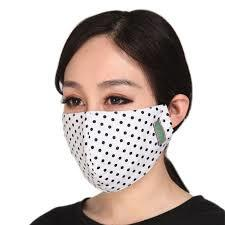OK: (57, 74, 173, 188)
